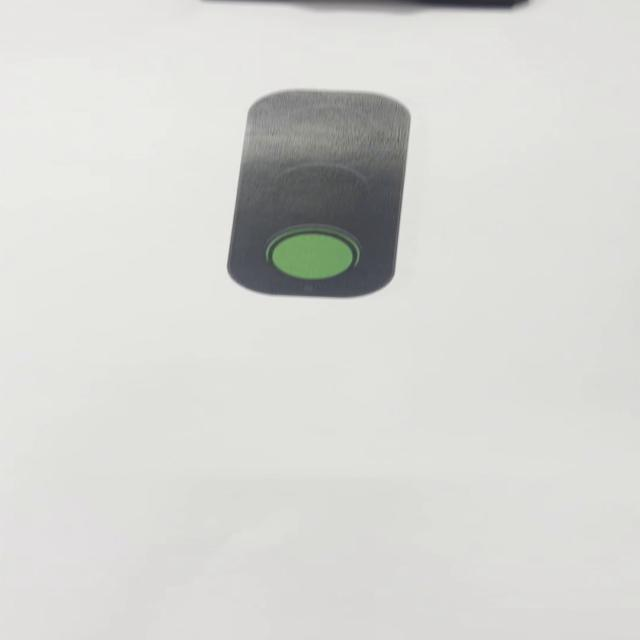green: (237, 91, 395, 299)
